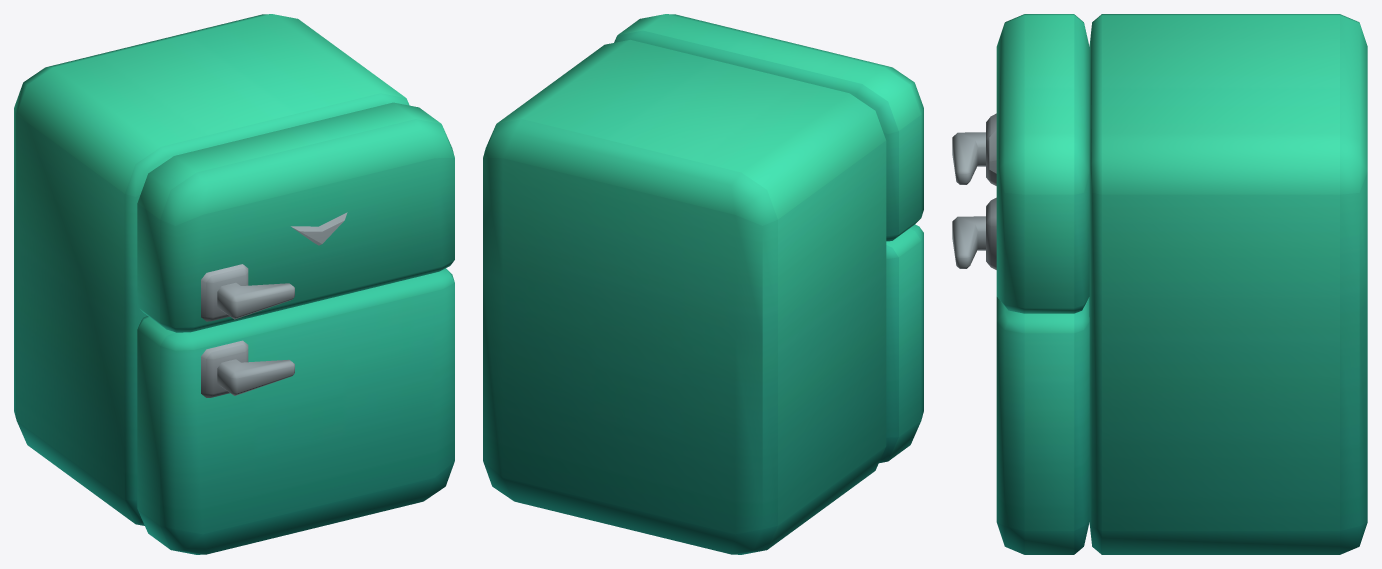
File: fridge-a-decorated.glb
The picture shows the model from 3 angles, left to right: view 1: azimuth 30°, elevation 25°; view 2: azimuth 150°, elevation 25°; view 3: azimuth 270°, elevation 25°; orthographic projection. The views are drawn at different scales.
Visible parts, largest first — view 1: Cube.106, fridge_A_decorated_door_bottom, fridge_A_decorated_door_top; view 2: Cube.106, fridge_A_decorated_door_top, fridge_A_decorated_door_bottom; view 3: Cube.106, fridge_A_decorated_door_top, fridge_A_decorated_door_bottom.
Part boxes in pixels (box(x1,y1,x2,y2)): Cube.106: box(14, 14, 409, 525); fridge_A_decorated_door_bottom: box(137, 268, 454, 554); fridge_A_decorated_door_top: box(137, 102, 454, 332); Cube.106: box(483, 39, 886, 554); fridge_A_decorated_door_top: box(614, 14, 923, 241); fridge_A_decorated_door_bottom: box(879, 224, 923, 463); Cube.106: box(1089, 14, 1367, 554); fridge_A_decorated_door_top: box(952, 14, 1089, 313); fridge_A_decorated_door_bottom: box(952, 197, 1089, 554).
Bounding box in the file's own units: 2 × 2.5 × 2.24.
Materials: 1 (1 with a texture image).
